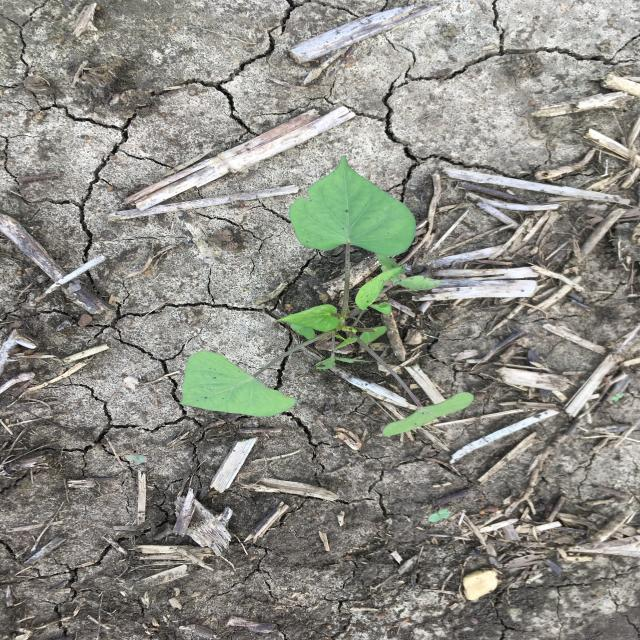MorningGlory: (176, 153, 479, 438)
